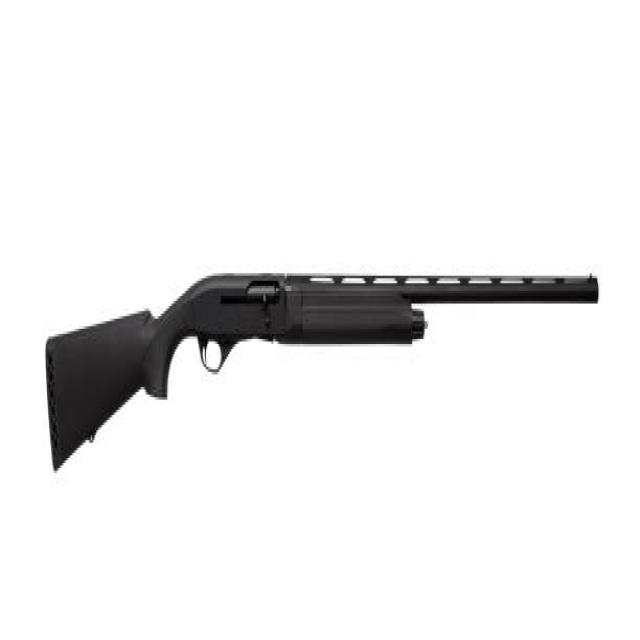rifle: (45, 259, 603, 489)
